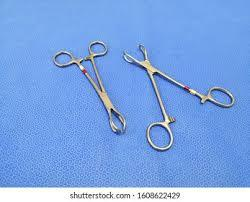Lane Tissue Forceps: (122, 42, 239, 150), (53, 39, 127, 137)
